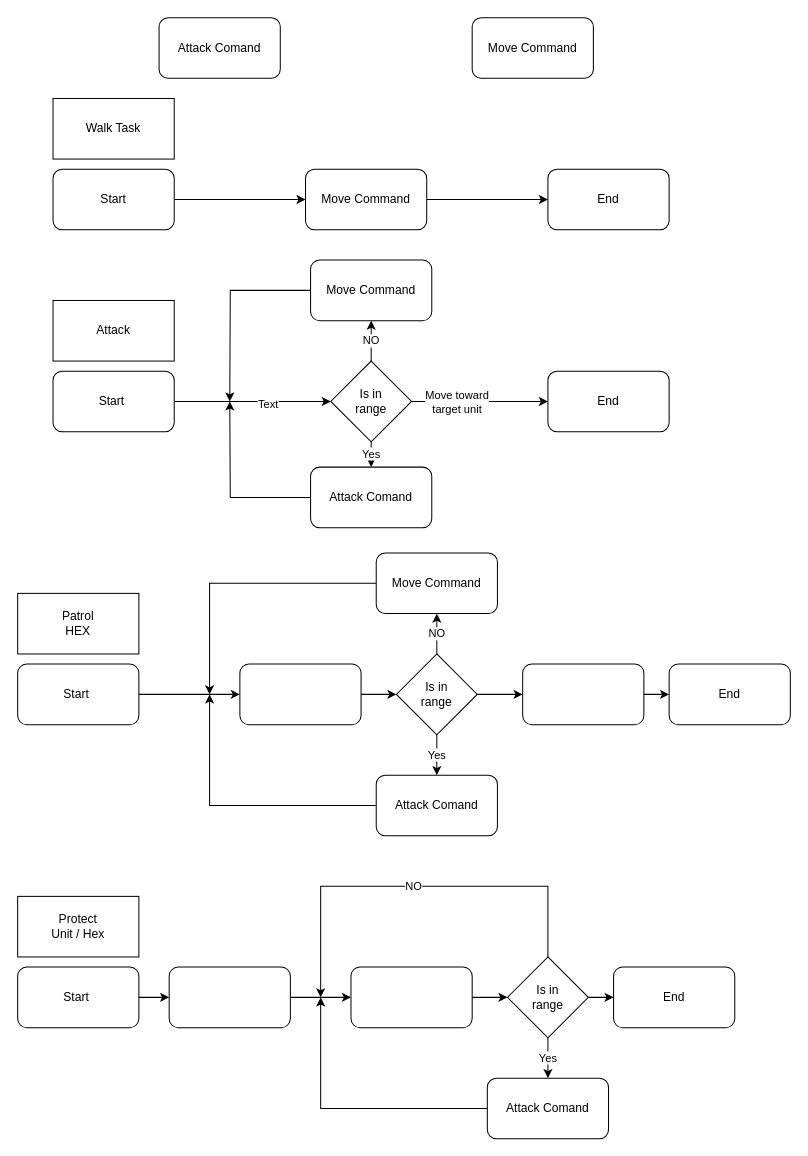
The diagram is 808 pixels wide and 1156 high, and some of its shapes have lost their labels. The centre of each missing label's shape, as x and y in pixels:
Find closest enemy: point (300, 694)
Find closest enemy to Unit / Hex: point (411, 997)
MoveComand toward Hex: point (583, 694)
MoveComand toward Unit / Hex: point (229, 997)
